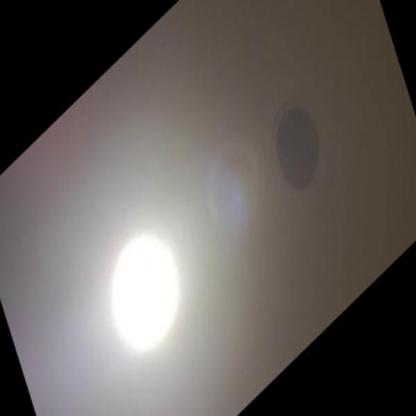light_off: (248, 54, 343, 234)
